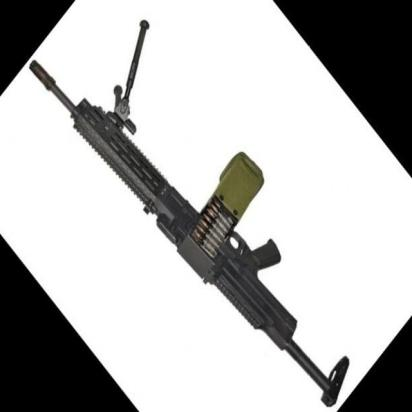Gun: (28, 18, 351, 407)
